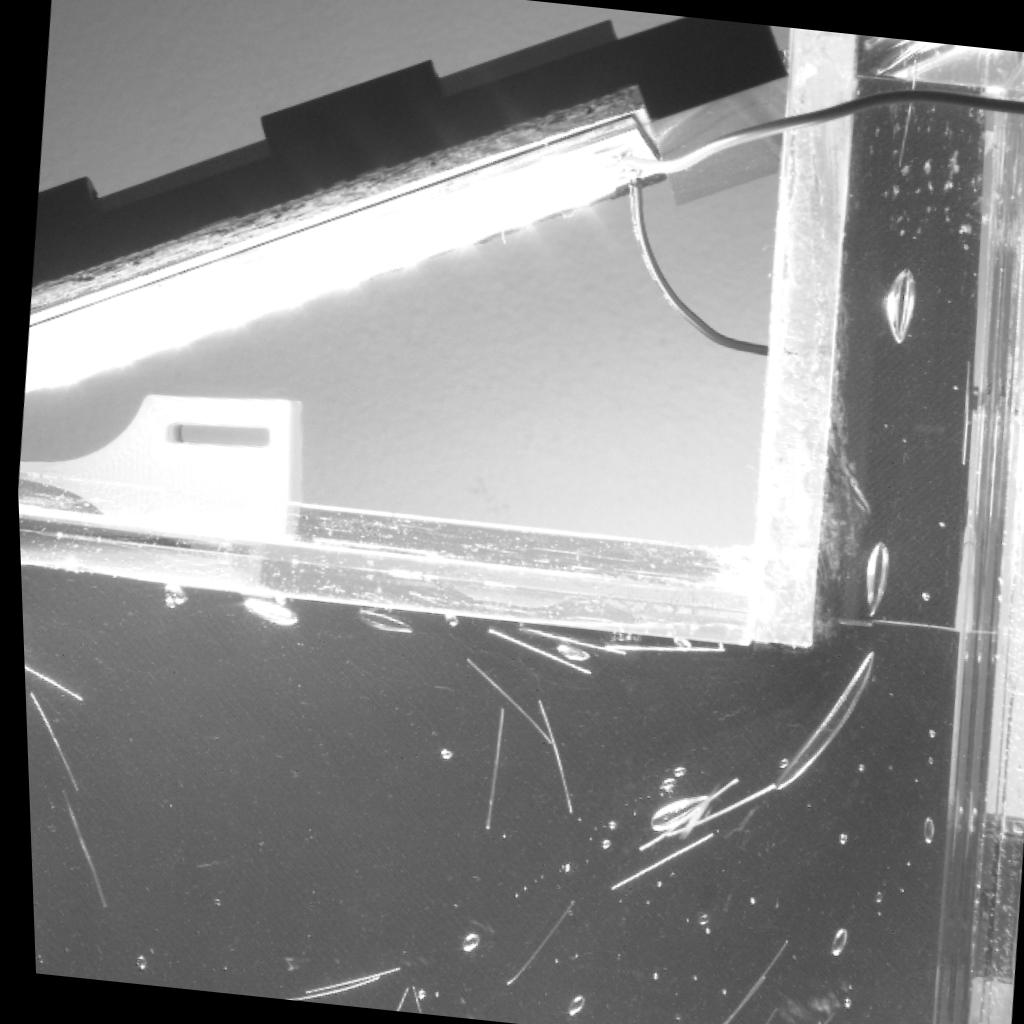Fiber: (457, 653, 553, 748), (629, 773, 736, 854), (650, 780, 769, 841), (603, 826, 710, 890), (498, 895, 572, 987), (714, 937, 785, 1024), (55, 787, 102, 911), (477, 624, 585, 676), (22, 688, 75, 786), (531, 698, 568, 811), (512, 622, 621, 658), (293, 961, 400, 993), (710, 970, 762, 1024), (275, 974, 380, 1000), (19, 660, 81, 702), (478, 708, 499, 830), (895, 58, 919, 164), (590, 642, 722, 654), (955, 358, 967, 460), (401, 983, 416, 1012), (387, 985, 402, 1011), (755, 1004, 772, 1024), (813, 1012, 828, 1024)
